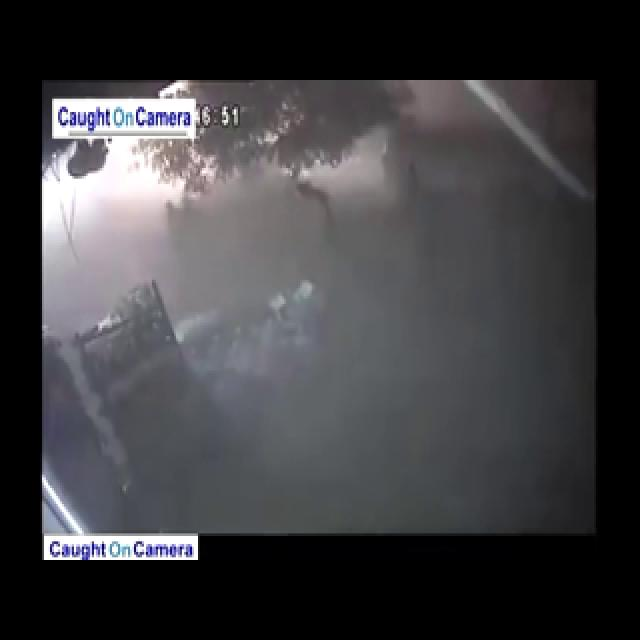explosion: (42, 75, 427, 520)
